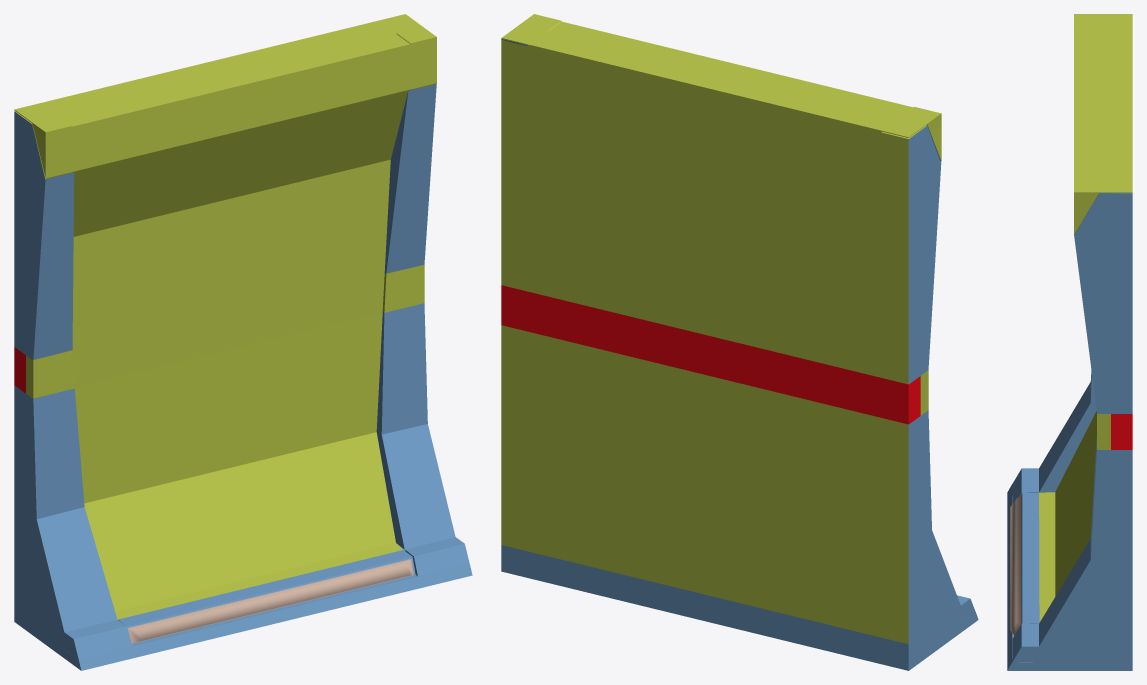
File: Glass Panel.fbx
3 renders of one model, left to right at view 1: azimuth 30°, elevation 25°; view 2: azimuth 150°, elevation 25°; view 3: azimuth 270°, elevation 25°, orthographic. The views are drawn at different scales.
Visible parts, largest first — view 1: Glass, Trim, Wall, Bottom Light; view 2: Glass, Trim, Wall; view 3: Trim, Wall, Glass, Bottom Light.
Part boxes in pixels (x1=…): Glass: x1=42, y1=89, x2=410, y2=611; Trim: x1=14, y1=14, x2=472, y2=670; Wall: x1=14, y1=27, x2=436, y2=180; Bottom Light: x1=127, y1=559, x2=413, y2=643; Glass: x1=528, y1=91, x2=881, y2=637; Trim: x1=501, y1=24, x2=978, y2=670; Wall: x1=501, y1=14, x2=941, y2=176; Trim: x1=1007, y1=14, x2=1132, y2=670; Wall: x1=1074, y1=14, x2=1132, y2=234; Glass: x1=1055, y1=411, x2=1096, y2=596; Bottom Light: x1=1010, y1=495, x2=1021, y2=635.
Size of the model in its own units: 78.74 by 98.58 by 23.41.
